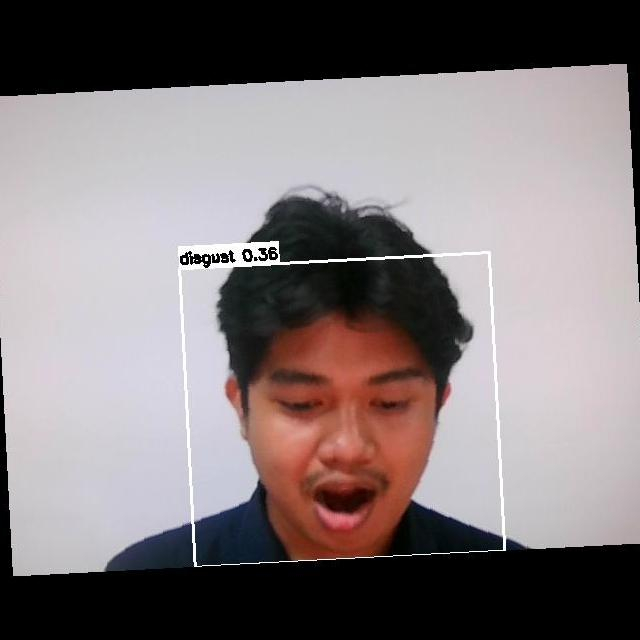Surprised: (249, 342, 433, 538)
